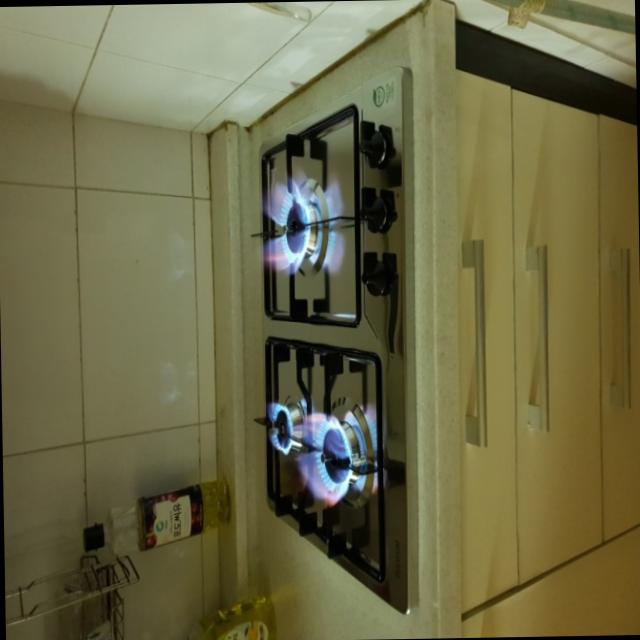knob_ON: (252, 145, 355, 325), (290, 370, 383, 565), (250, 380, 301, 481)
